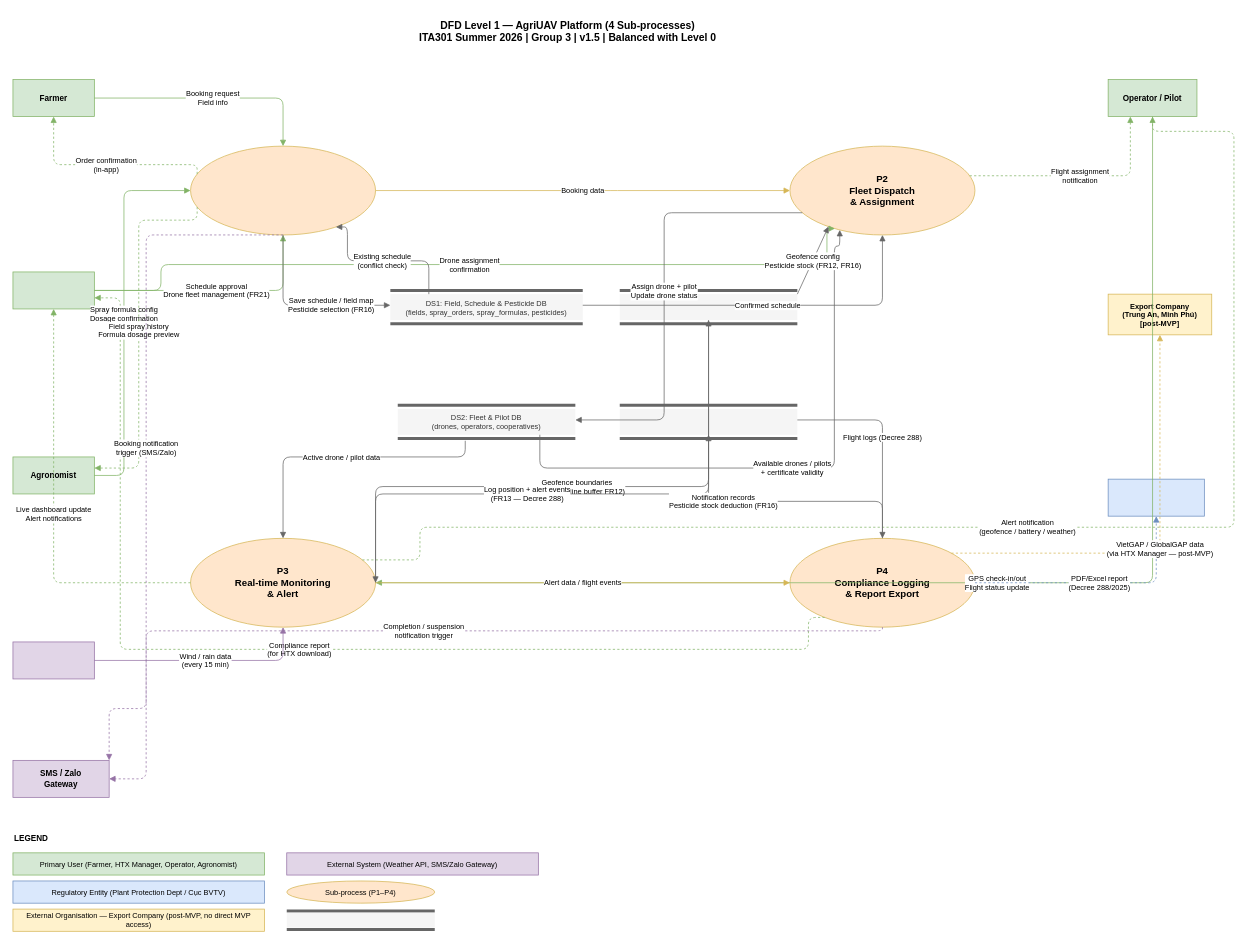
Image size: 1253x945. Some labels were removed from this diagram. Here are the shapes that lost their labels. From the top down, the box of each, then its label:
(190, 145, 376, 235): P1 Booking & Schedule Management
(12, 271, 94, 309): HTX Manager
(619, 294, 797, 320): DS4: Geofence & Notification DB (geofences, notifications, pesticide_stock)
(619, 408, 797, 434): DS3: Flight Log DB (flight_logs, drone_positions, audit_logs)
(1107, 478, 1204, 516): Plant Protection Dept (Cục BVTV)
(12, 641, 94, 679): Weather API
(286, 912, 434, 927): Data Store (DS1–DS4)
